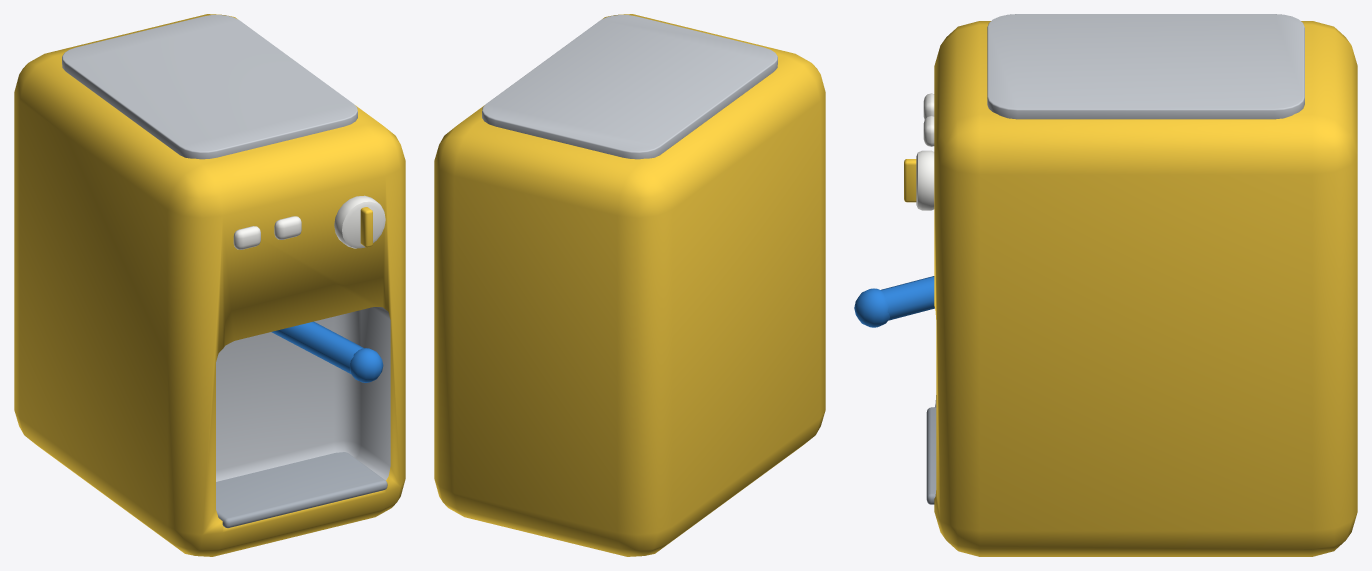
The model's file is cafeteira_capsula_amarela.glb.
3 views of the same model, side by side, from view 1: azimuth 30°, elevation 25°; view 2: azimuth 150°, elevation 25°; view 3: azimuth 270°, elevation 25° (orthographic). The views are drawn at different scales.
Visible parts, largest first — view 1: cafeteira_capsula_amarela; view 2: cafeteira_capsula_amarela; view 3: cafeteira_capsula_amarela.
Boxes of the visible parts, left/top/right/bottom form: cafeteira_capsula_amarela: left=14, top=14, right=405, bottom=556; cafeteira_capsula_amarela: left=434, top=14, right=825, bottom=556; cafeteira_capsula_amarela: left=854, top=14, right=1357, bottom=556.
Bounding box in the file's own units: 0.2 × 0.326 × 0.333.
1 material, 1 textured.
